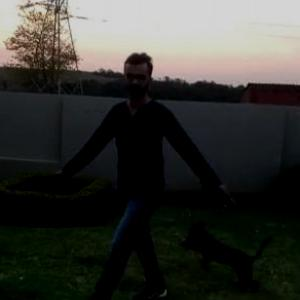land: (67, 48, 218, 299)
